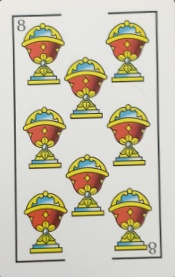8c: (11, 10, 159, 33)
